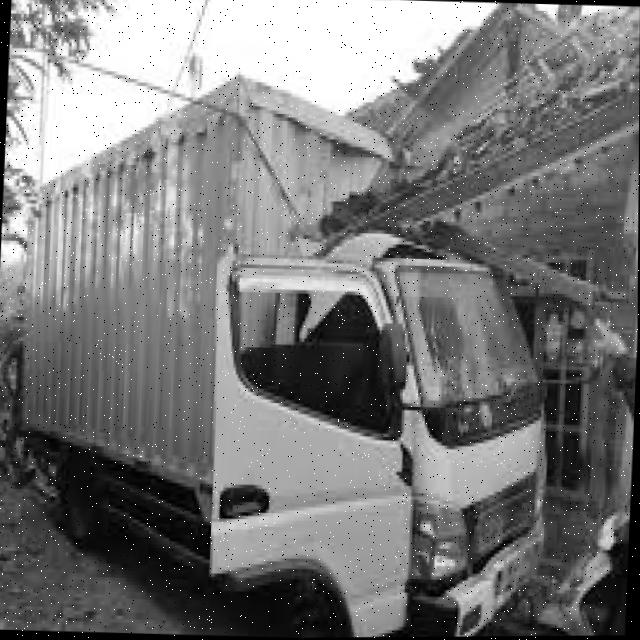truck: (151, 195, 574, 640)
